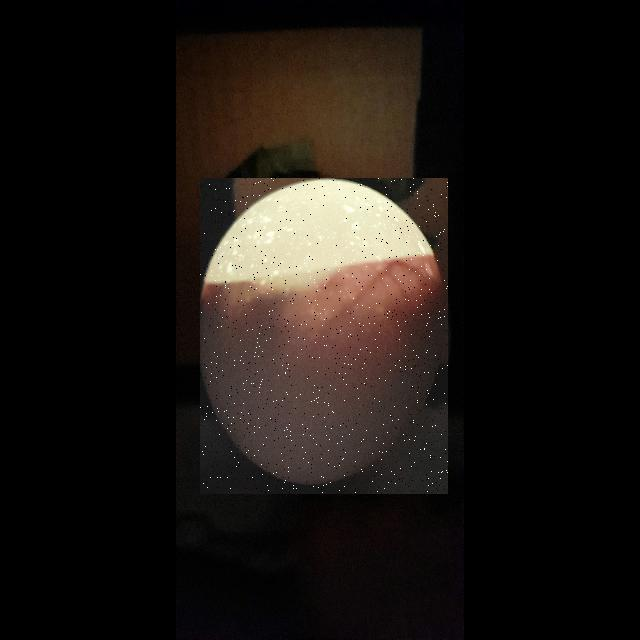Fertile: (200, 178, 448, 494)
